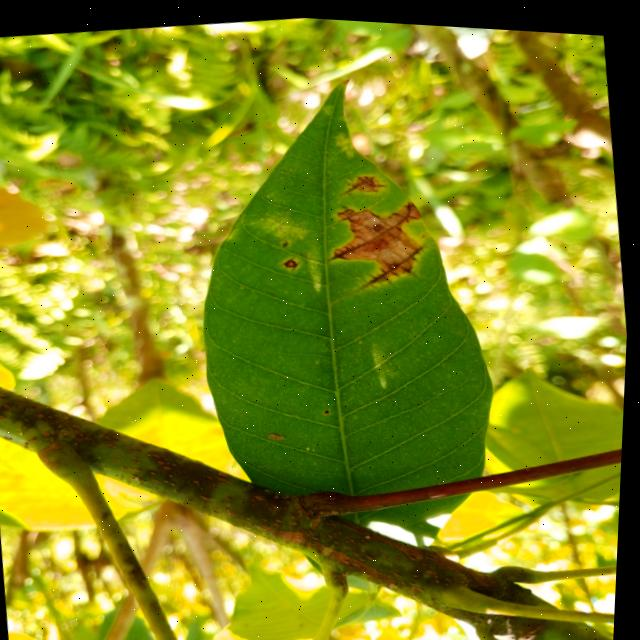Corynespora: (355, 235, 436, 290), (341, 167, 392, 193), (328, 236, 369, 260), (391, 195, 419, 223), (283, 251, 305, 270)
Leaf-Blight: (336, 195, 422, 275)
